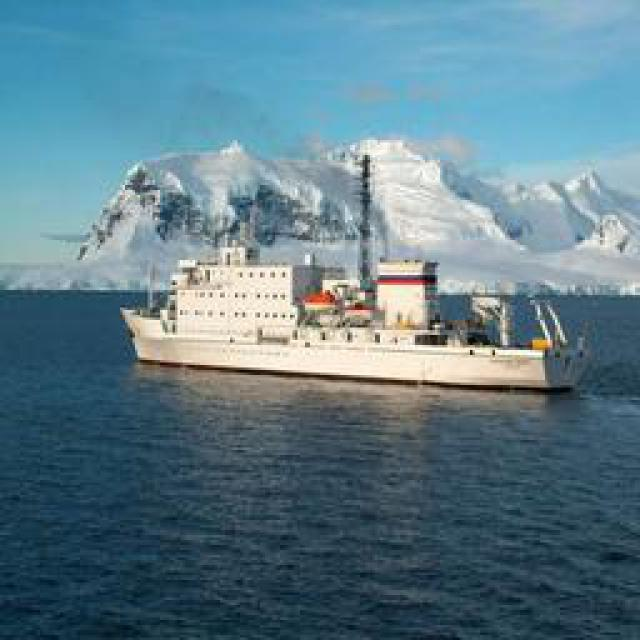Ship: (137, 242, 587, 395)
